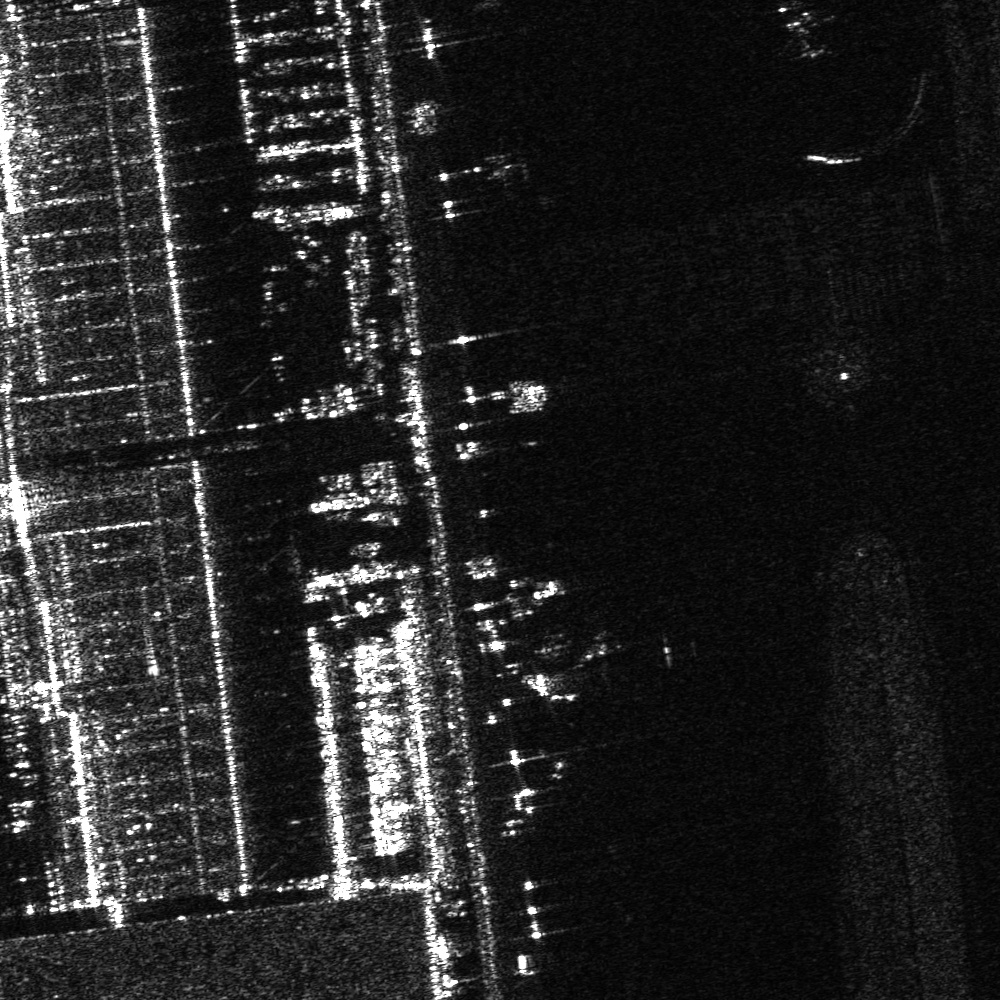A220: (768, 3, 837, 61)
